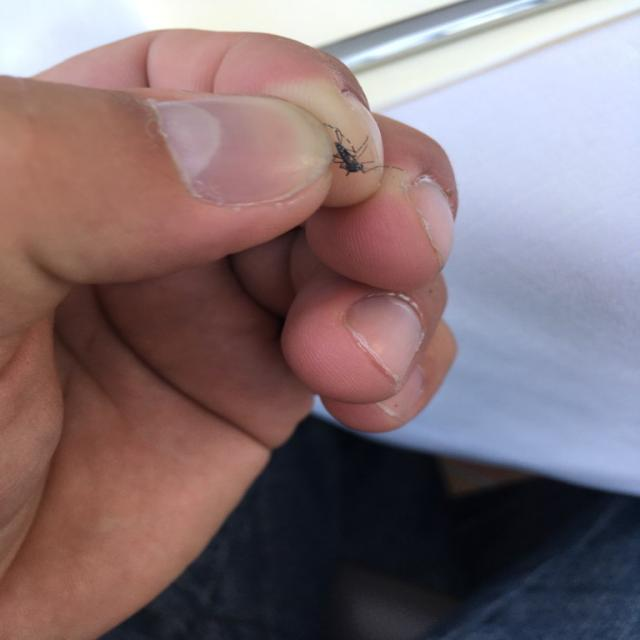albopictus: (318, 128, 392, 184)
